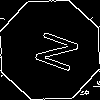N: (25, 25, 80, 75)
